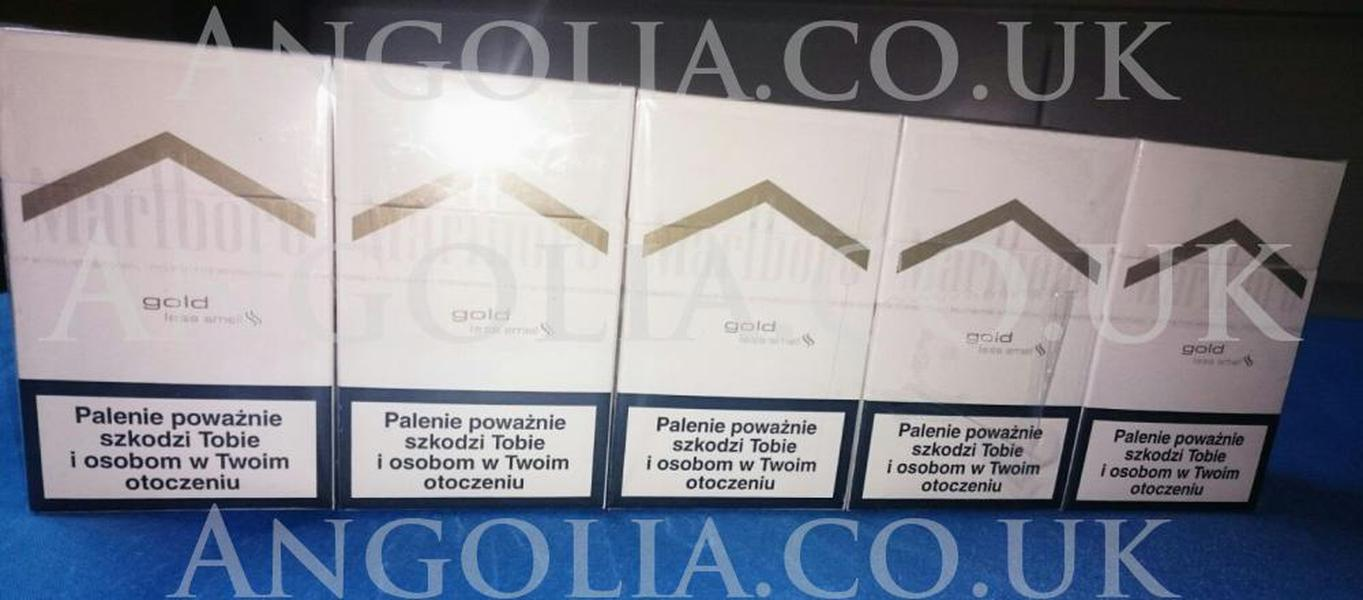marlboro_gold: (18, 62, 331, 504), (334, 91, 621, 507), (625, 123, 873, 507), (880, 156, 1092, 488), (1105, 172, 1302, 501)
